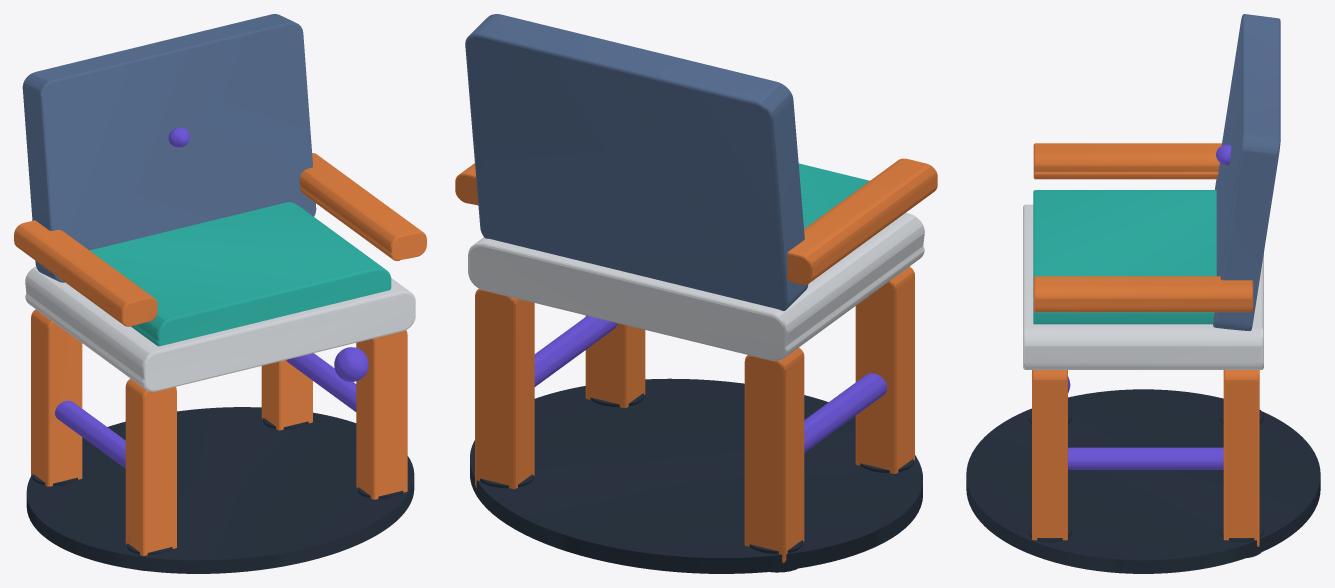
Rendered from 0964_农业科技图鉴_半滑舌鳎.glb.
3 views of the same model, side by side, from view 1: azimuth 30°, elevation 25°; view 2: azimuth 150°, elevation 25°; view 3: azimuth 270°, elevation 25° (orthographic). The views are drawn at different scales.
Parts seen in each view (by area): view 1: card_0964; view 2: card_0964; view 3: card_0964.
Part boxes in pixels (x1=…): card_0964: x1=14, y1=14, x2=426, y2=573; card_0964: x1=455, y1=14, x2=937, y2=573; card_0964: x1=966, y1=14, x2=1320, y2=573.
Bounding box in the file's own units: 0.8793 × 1 × 0.7702.
